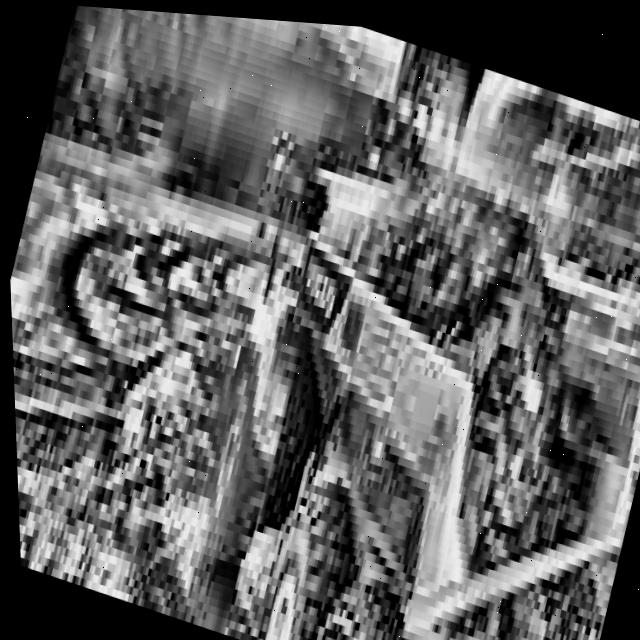dump_truck: (125, 72, 640, 640)
